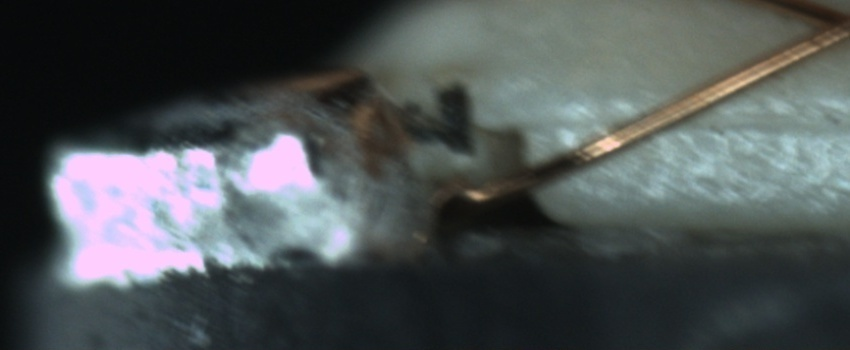CL: (779, 1, 850, 60)
DL: (623, 88, 850, 157)
